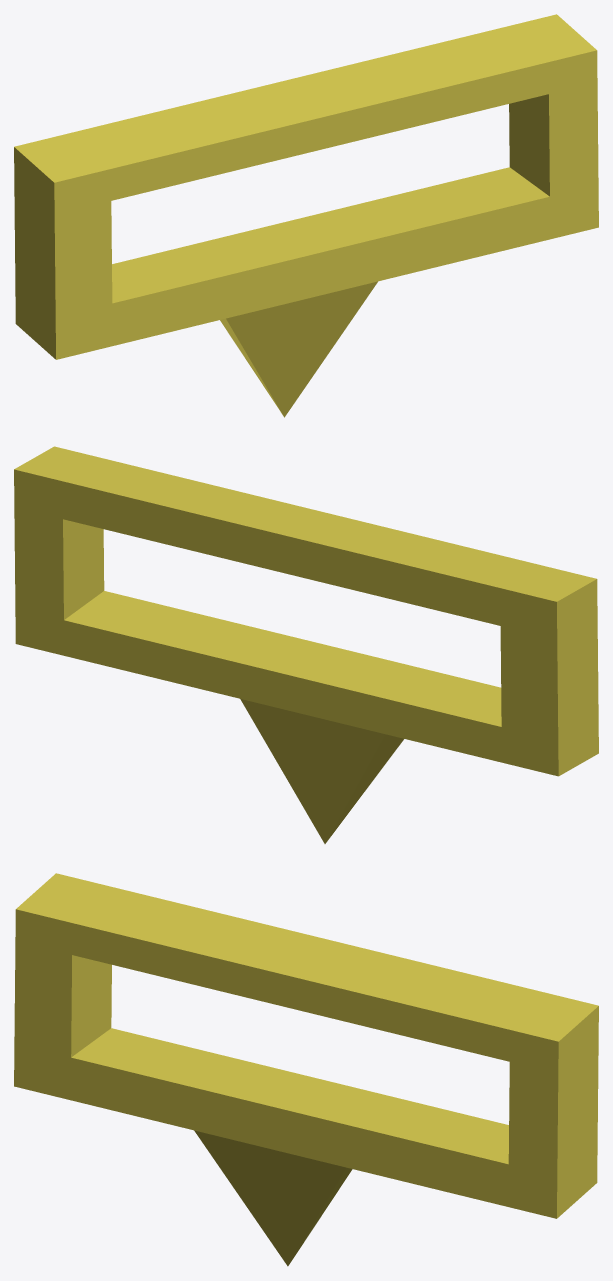
The model's file is 네모상자화살표.glb.
The picture shows the model from 3 angles, top to bottom: view 1: azimuth 30°, elevation 25°; view 2: azimuth 150°, elevation 25°; view 3: azimuth 330°, elevation 25°; orthographic projection.
Visible parts, largest first — view 1: Mesh_Mesh_head_geo.001_lambert2SG.001; view 2: Mesh_Mesh_head_geo.001_lambert2SG.001; view 3: Mesh_Mesh_head_geo.001_lambert2SG.001.
Boxes of the visible parts, left/top/right/bottom form: Mesh_Mesh_head_geo.001_lambert2SG.001: left=14, top=14, right=598, bottom=417; Mesh_Mesh_head_geo.001_lambert2SG.001: left=14, top=446, right=598, bottom=843; Mesh_Mesh_head_geo.001_lambert2SG.001: left=14, top=873, right=598, bottom=1266.
Bounding box in the file's own units: 67 × 37.51 × 9.
